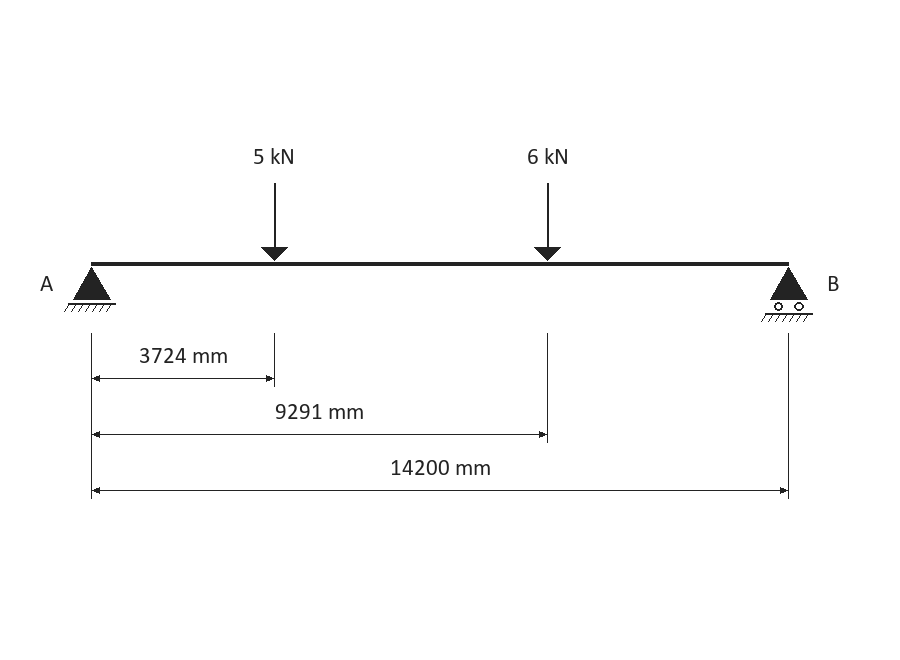pin_support: (64, 267, 116, 312)
point_load: (261, 183, 288, 261), (534, 183, 561, 261)
roller_support: (761, 267, 813, 322)
